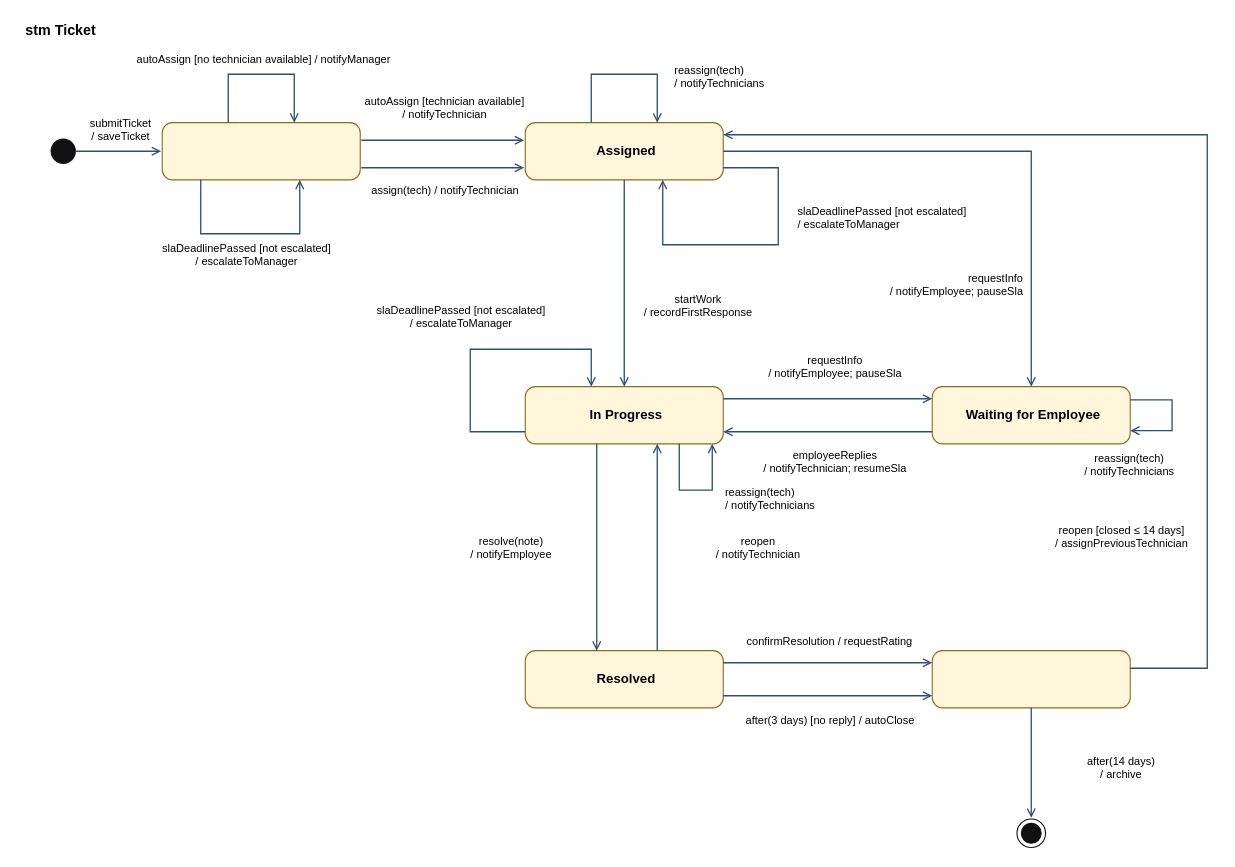
The diagram is 1235 pixels wide and 867 high, and some of its shapes have lost their labels. The shapes that lost their labels are listed below. From the top down, each one's centre as x and y in pixels, then its label:
At point (260, 151): "New".
At point (1030, 679): "Closed".
